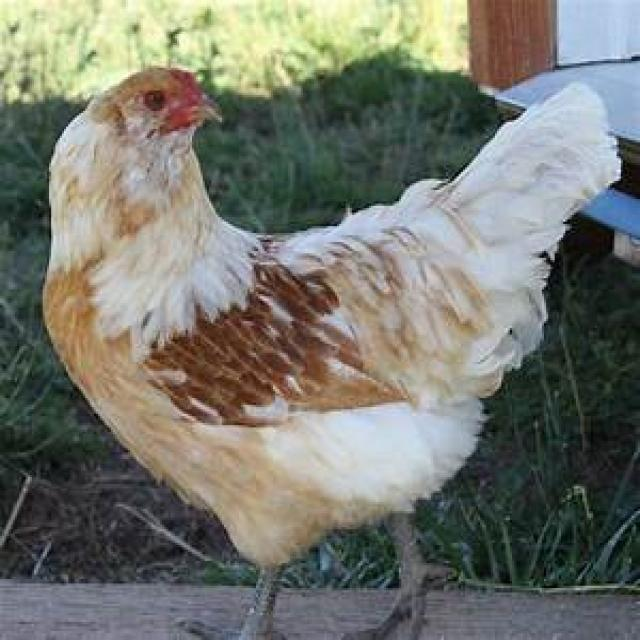hen: (43, 66, 623, 590)
